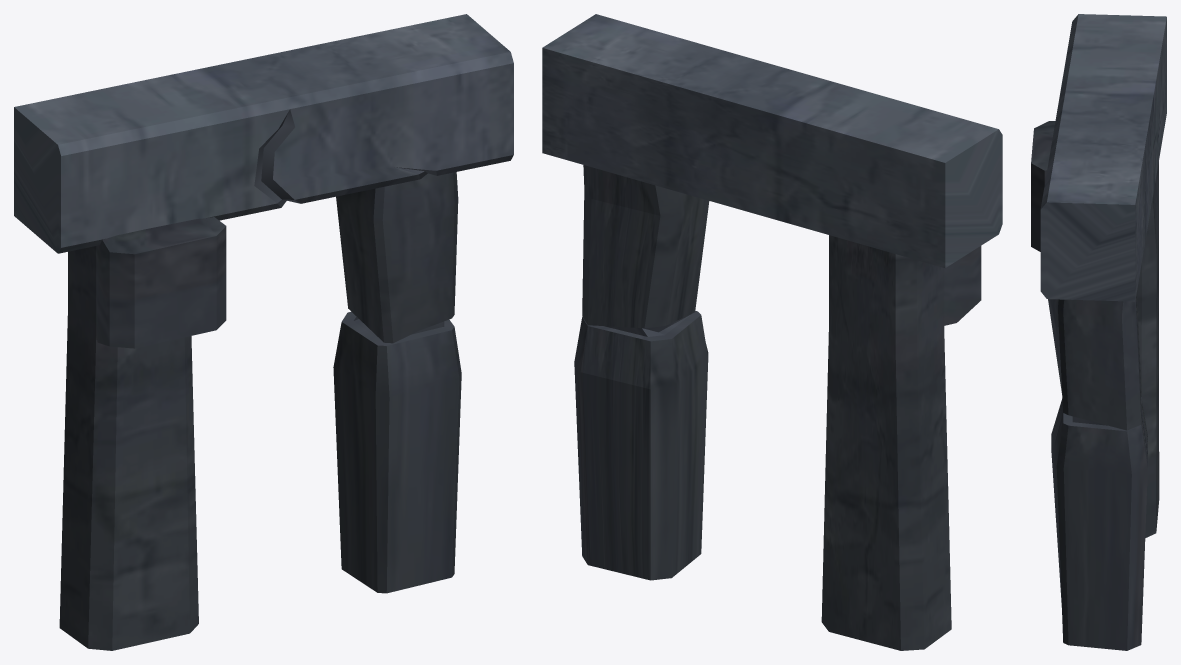
File: pm-stand-arc-01.glb
3 views of the same model, side by side, from view 1: azimuth 30°, elevation 25°; view 2: azimuth 150°, elevation 25°; view 3: azimuth 270°, elevation 25° (orthographic). The views are drawn at different scales.
Parts seen in each view (by area): view 1: StandArc01; view 2: StandArc01; view 3: StandArc01.
Part boxes in pixels (x1,y1,x2,y2): StandArc01: (14,14,513,650); StandArc01: (542,14,1002,650); StandArc01: (1031,14,1166,650).
Size of what is drawn, in the model's own units: 6.13 by 6.91 by 1.84.
1 material, 1 textured.
